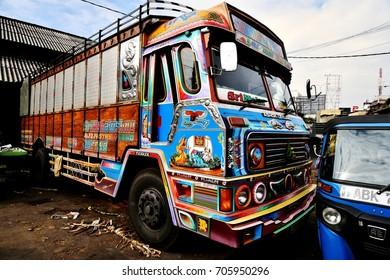car: (318, 112, 390, 260)
truck: (13, 0, 317, 250)
